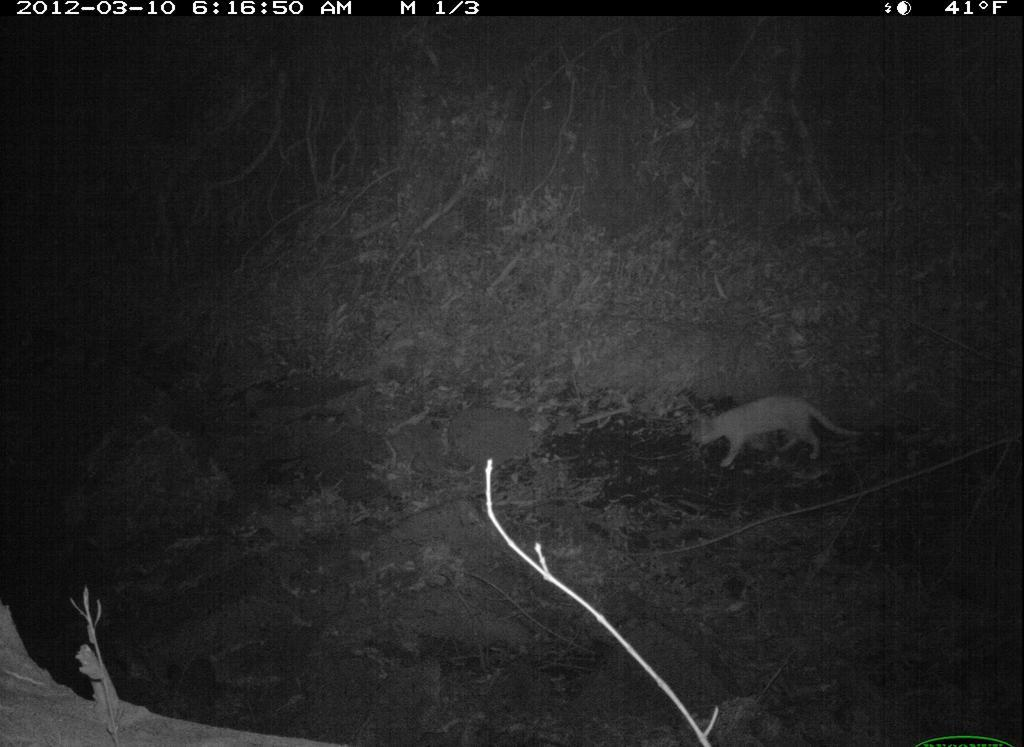cat: (680, 391, 868, 472)
